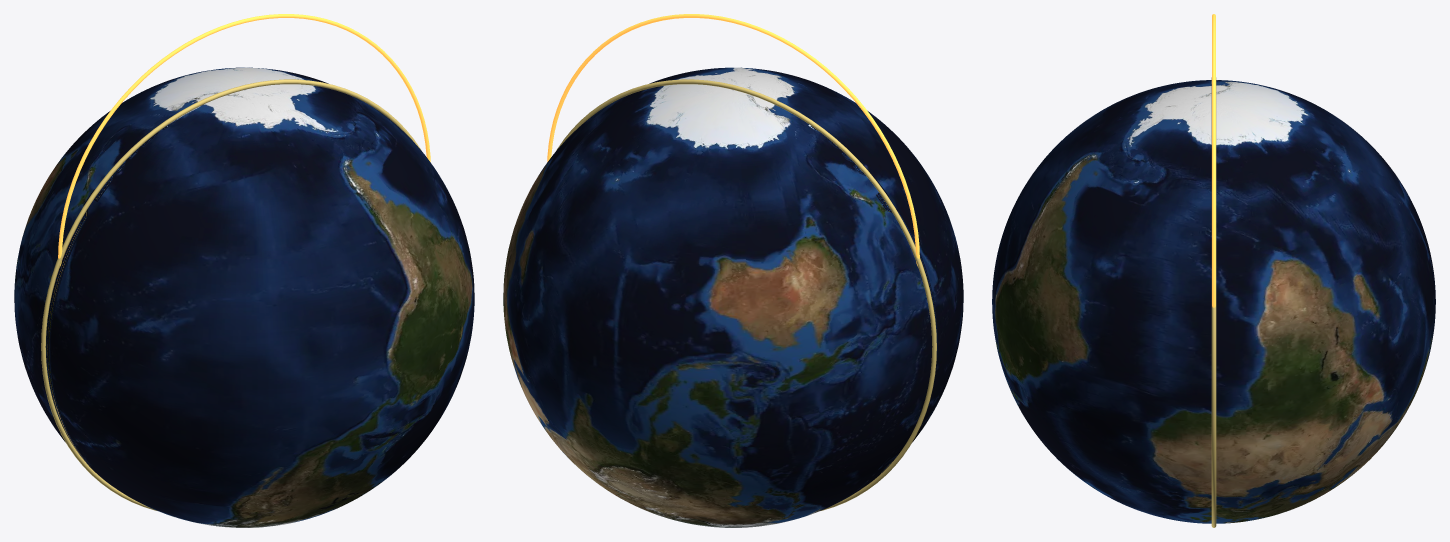
Rendered from graticule.glb.
3 views of the same model, side by side, from view 1: azimuth 30°, elevation 25°; view 2: azimuth 150°, elevation 25°; view 3: azimuth 270°, elevation 25° (orthographic). The views are drawn at different scales.
Visible parts, largest first — view 1: Grat_Earth, Grat_Equator, Grat_Tropic; view 2: Grat_Earth, Grat_Equator, Grat_Tropic; view 3: Grat_Earth, Grat_Equator, Grat_Tropic.
Part boxes in pixels (left/top/right/bottom): Grat_Earth: left=14, top=67, right=474, bottom=527; Grat_Equator: left=41, top=79, right=421, bottom=510; Grat_Tropic: left=58, top=14, right=430, bottom=266; Grat_Earth: left=503, top=67, right=963, bottom=527; Grat_Equator: left=556, top=79, right=936, bottom=510; Grat_Tropic: left=547, top=14, right=919, bottom=266; Grat_Earth: left=992, top=80, right=1435, bottom=523; Grat_Equator: left=1211, top=77, right=1216, bottom=527; Grat_Tropic: left=1212, top=14, right=1215, bottom=307.
Bounding box in the file's own units: 2.34 × 2.71 × 2.3.
Materials: 4 (1 with a texture image).
